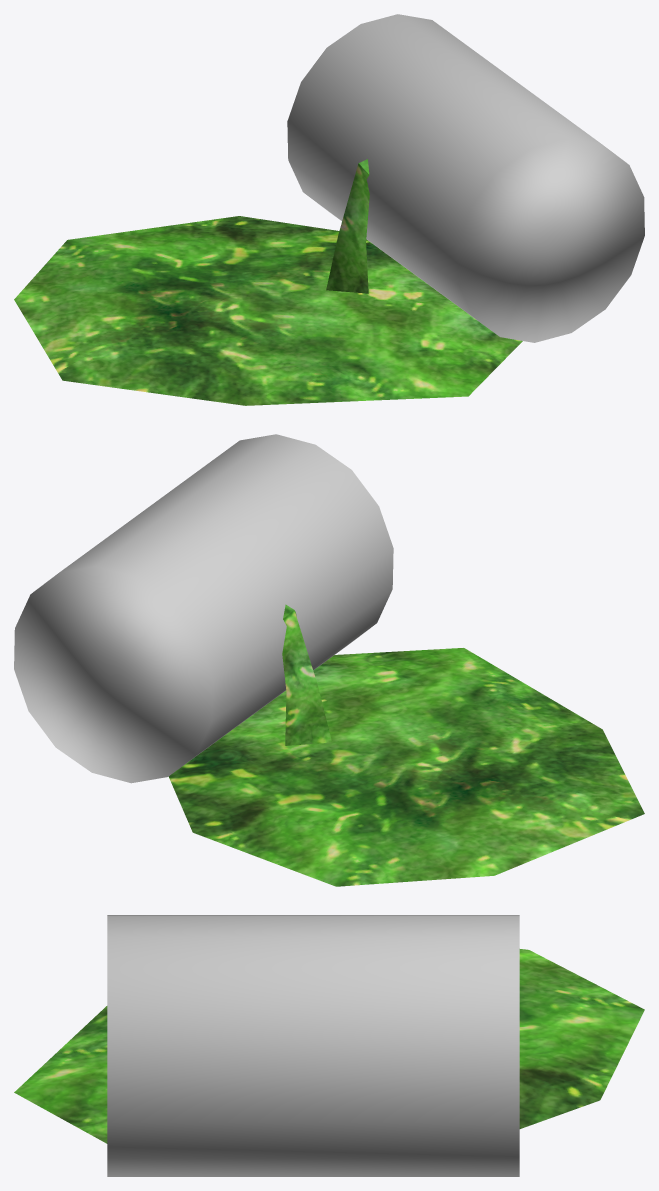
Rendered from toxic_spill_4.fbx.
3 renders of one model, top to bottom at view 1: azimuth 30°, elevation 25°; view 2: azimuth 150°, elevation 25°; view 3: azimuth 270°, elevation 25°, orthographic. The views are drawn at different scales.
Parts seen in each view (by area): view 1: polySurface39; view 2: polySurface39; view 3: polySurface39.
Boxes of the visible parts, left/top/right/bottom form: polySurface39: left=14, top=14, right=644, bottom=405; polySurface39: left=14, top=434, right=644, bottom=886; polySurface39: left=14, top=915, right=644, bottom=1176.
Size of the model in its own units: 5.48 by 2.08 by 4.92.
